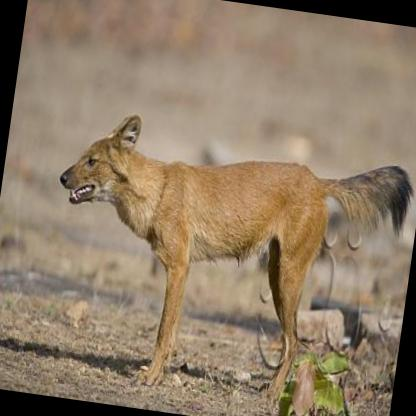dhole: (28, 101, 416, 416)
